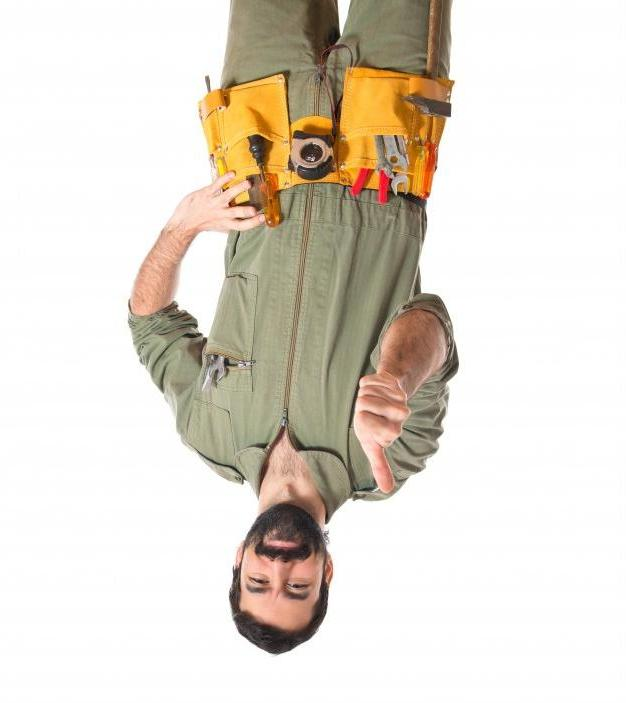thumbsdown: (355, 374, 411, 493)
